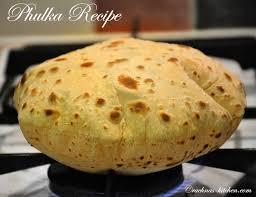roti phulka: (21, 37, 255, 166)
